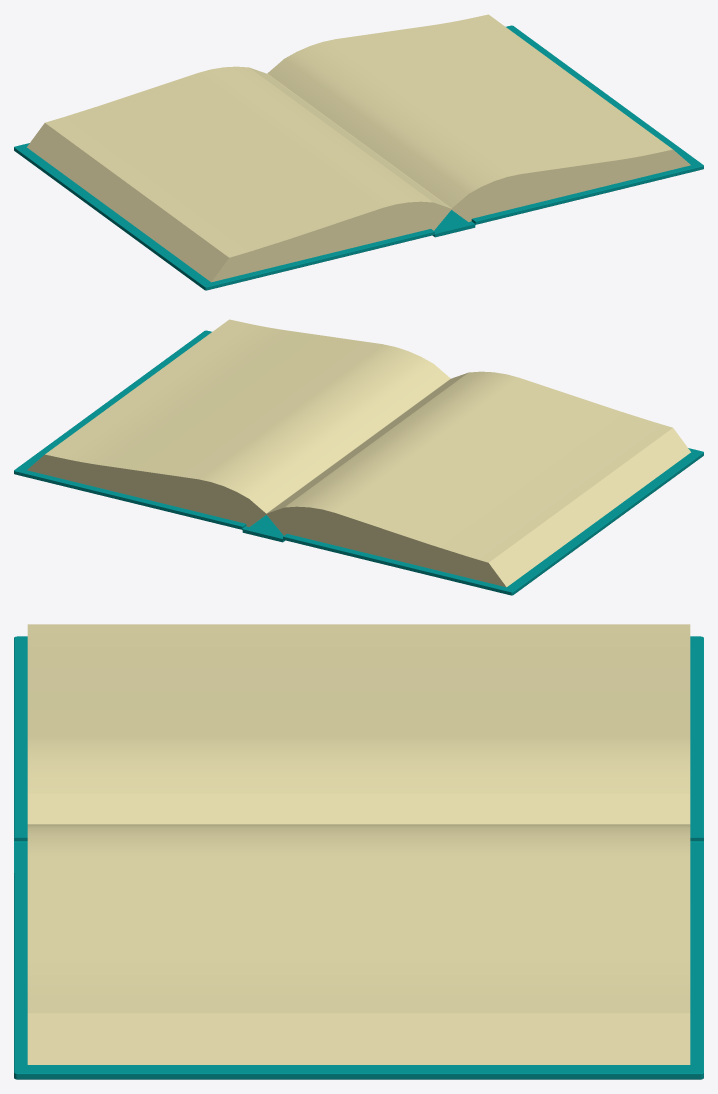
File: Book.fbx
3 views of the same model, one above another, from view 1: azimuth 30°, elevation 25°; view 2: azimuth 150°, elevation 25°; view 3: azimuth 270°, elevation 25° (orthographic). The views are drawn at different scales.
Parts seen in each view (by area): view 1: Open Book; view 2: Open Book; view 3: Open Book.
Boxes of the visible parts, x1,y1,x2,y2 form: Open Book: (14,14,703,290); Open Book: (14,319,703,595); Open Book: (14,624,703,1079).
Bounding box in the file's own units: 3000 × 225 × 2000.
